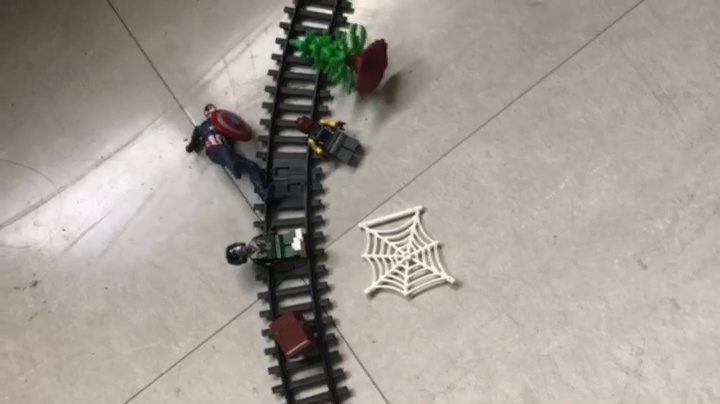box: (270, 311, 319, 359)
people: (181, 101, 269, 183), (292, 113, 366, 169), (225, 227, 307, 270)
tree: (287, 23, 393, 100)
web: (358, 205, 457, 300)
